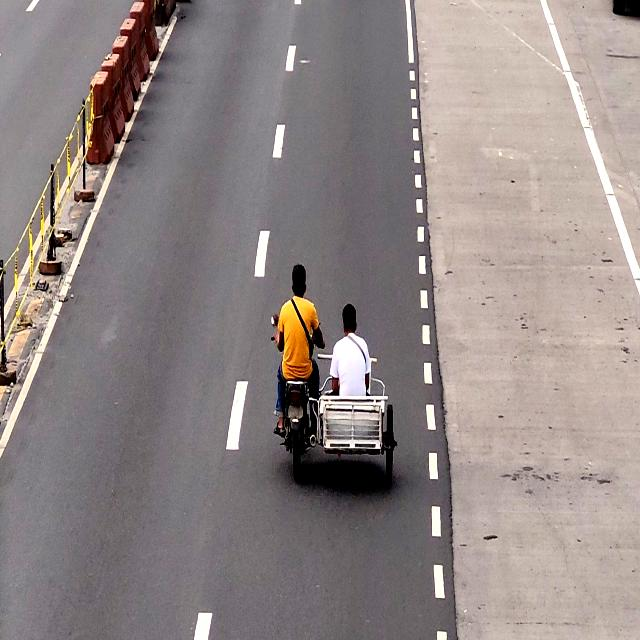Tricycle: (277, 268, 397, 488)
